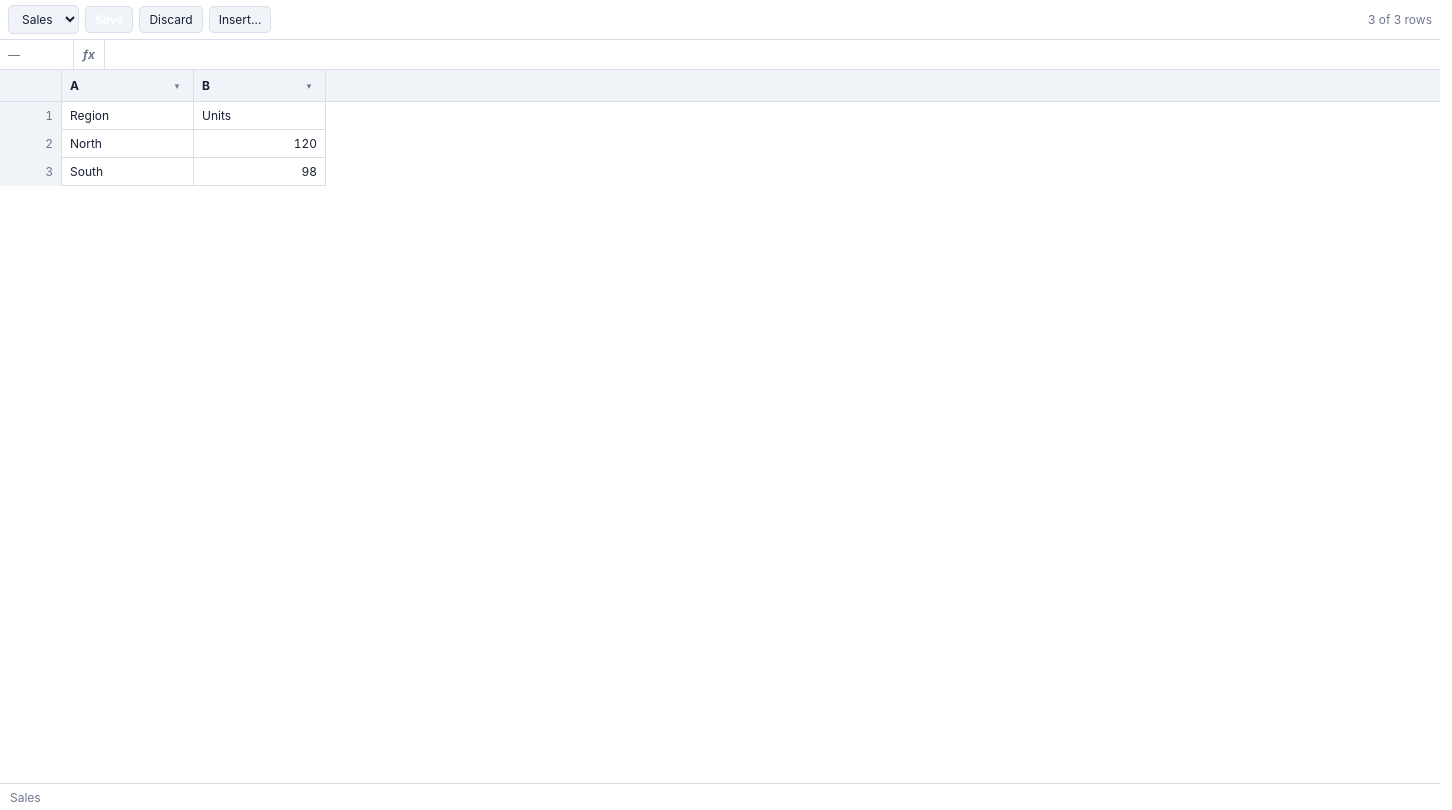
Scenario: SpreadsheetViewer › surfaces a save failure instead of clearing the pending edits
The image size is (1452, 810).
Expected: the text "Region" is shown, x1=62 y1=102 x2=194 y2=130
Double-click the text "North" at [128, 144], box x1=62 y1=130 x2=194 y2=158
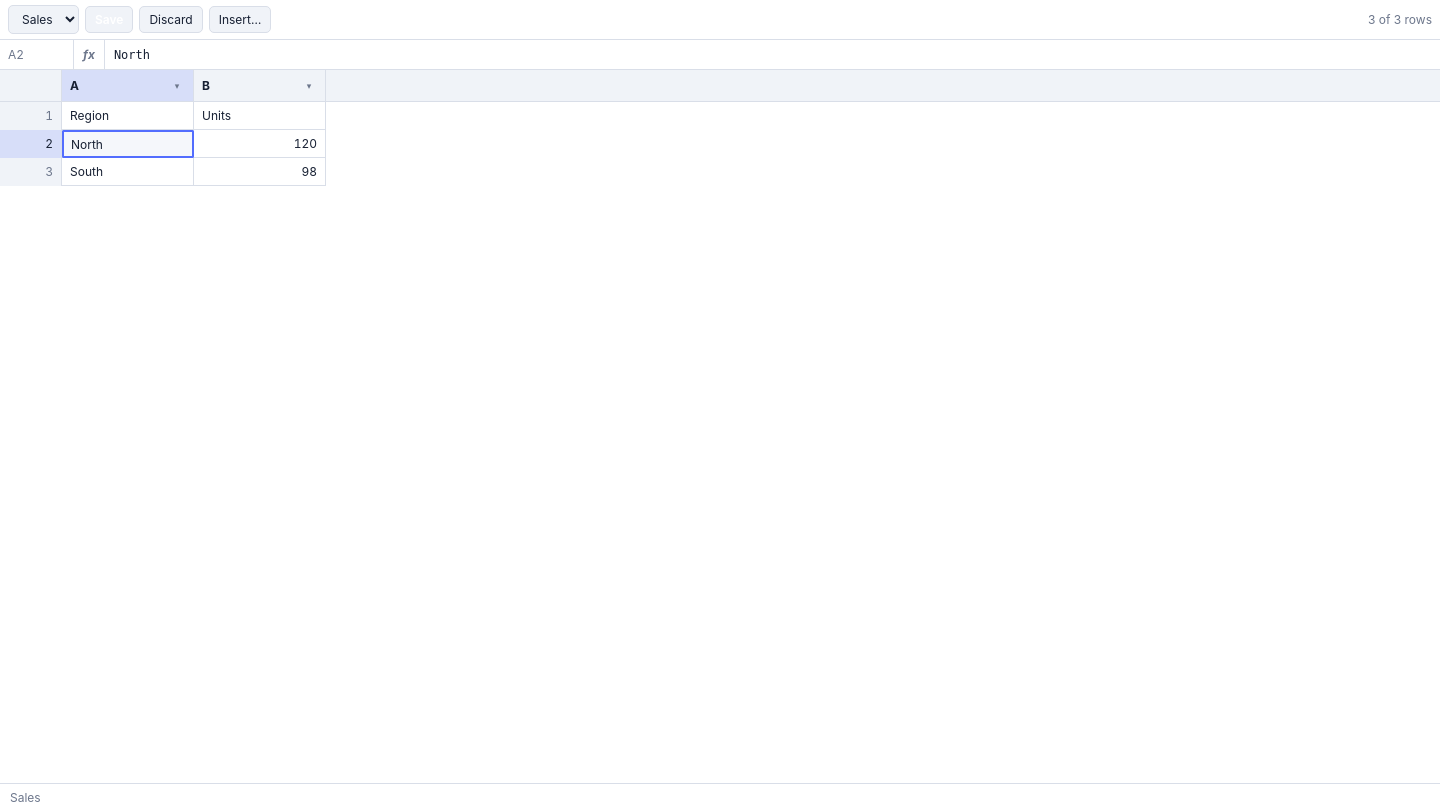
Replace the text in the field with class "sheet-editor" with "Nope" at [128, 144], box x1=62 y1=130 x2=194 y2=158
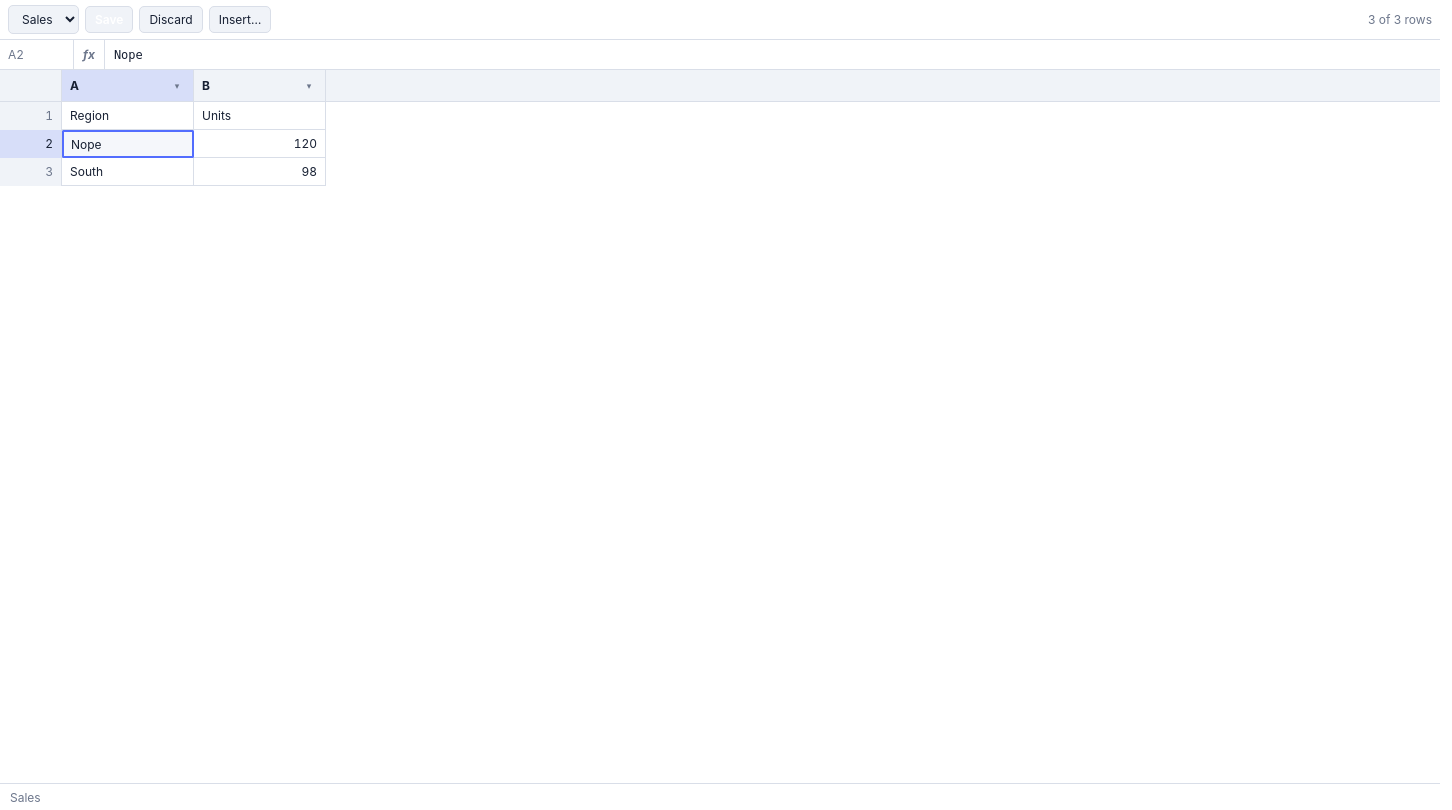
Press Enter in the field with class "sheet-editor", box x1=62 y1=130 x2=194 y2=158
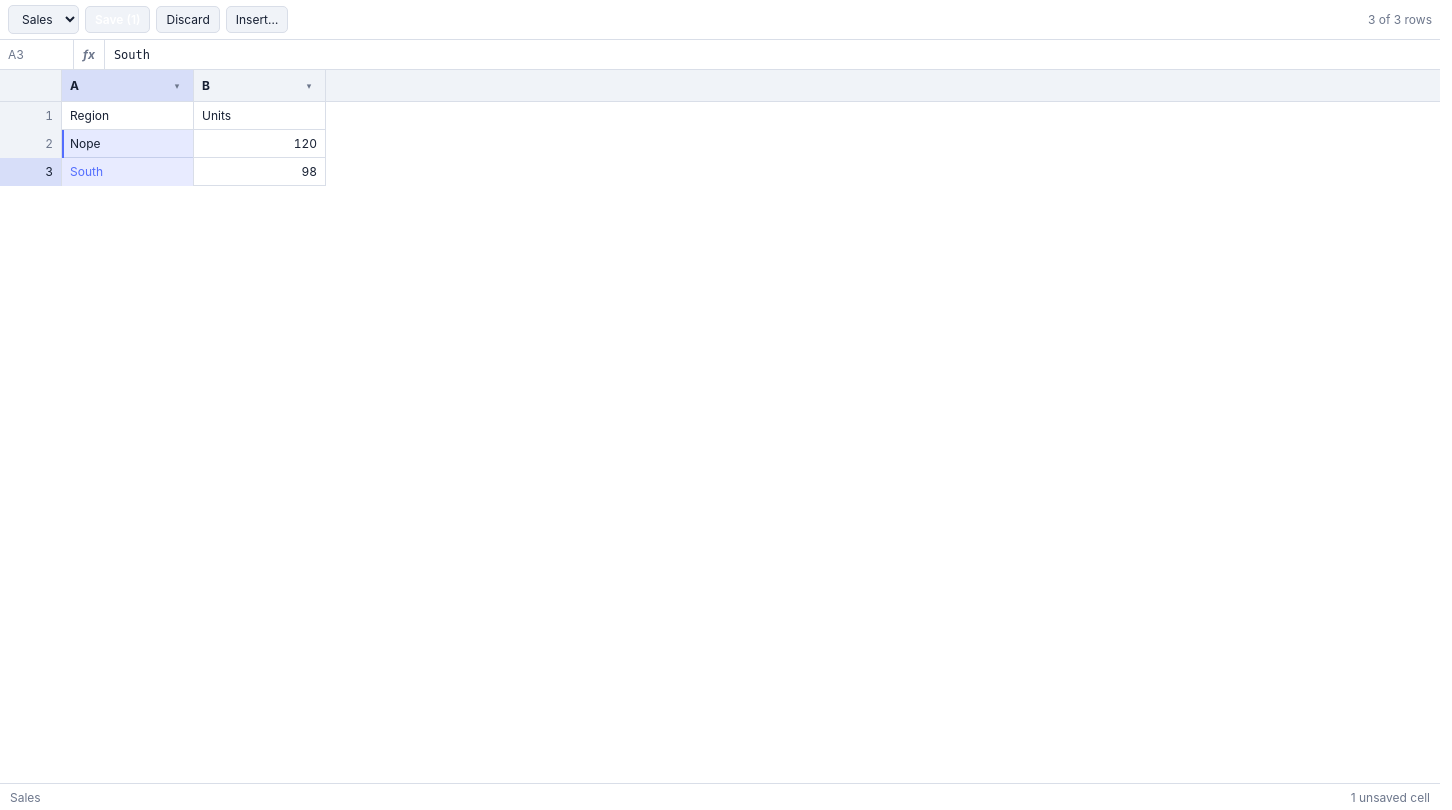
Click the button "Save (1)" at [118, 20], box x1=85 y1=6 x2=150 y2=33
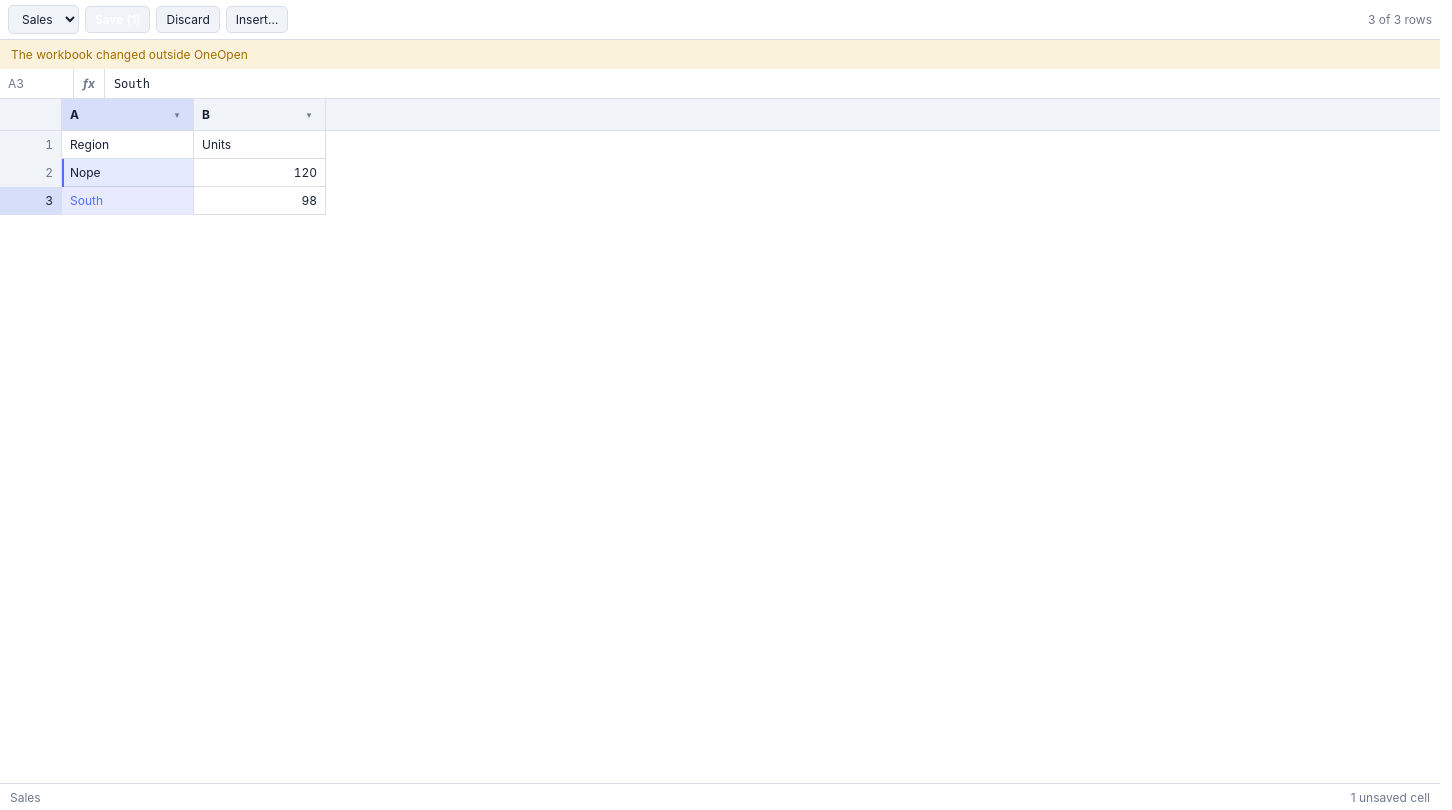
Expected: the text "The workbook changed outside OneOpen" is shown, x1=0 y1=40 x2=1440 y2=69
